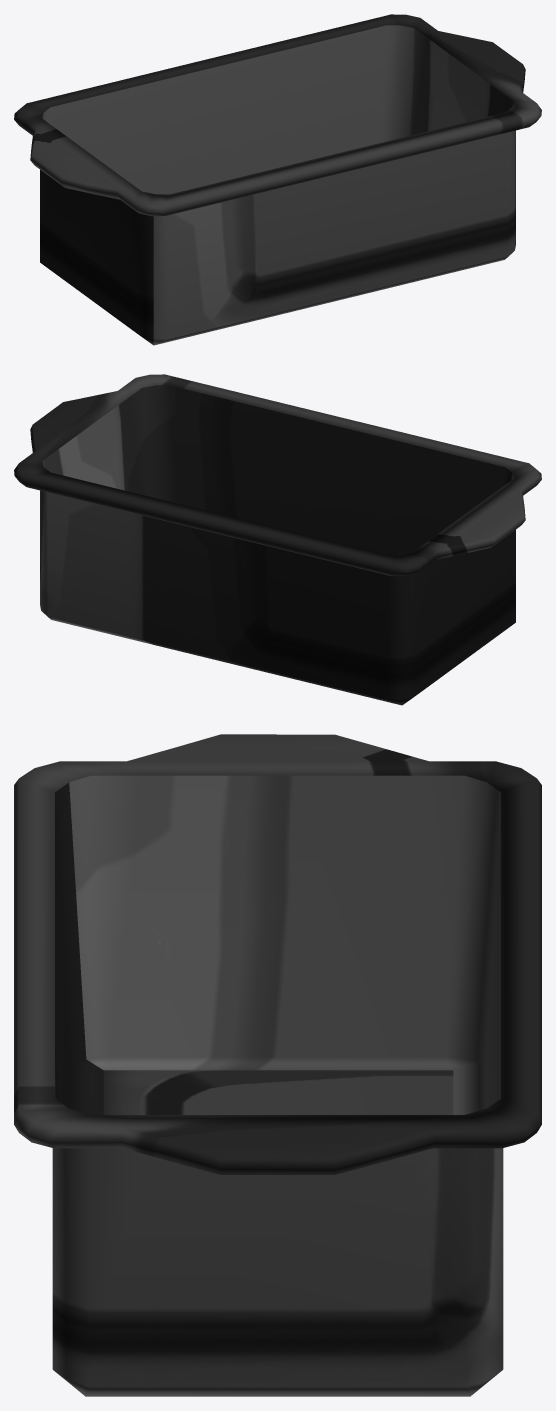
File: Tray_Deep_02.fbx
3 renders of one model, top to bottom at view 1: azimuth 30°, elevation 25°; view 2: azimuth 150°, elevation 25°; view 3: azimuth 270°, elevation 25°, orthographic. The views are drawn at different scales.
Visible parts, largest first — view 1: Tray_Deep_02; view 2: Tray_Deep_02; view 3: Tray_Deep_02.
Boxes of the visible parts, <box> form: Tray_Deep_02: <box>14,14,541,345</box>; Tray_Deep_02: <box>14,374,541,705</box>; Tray_Deep_02: <box>14,734,541,1396</box>.
Size of the model in its own units: 78.7 by 25.19 by 41.34.
